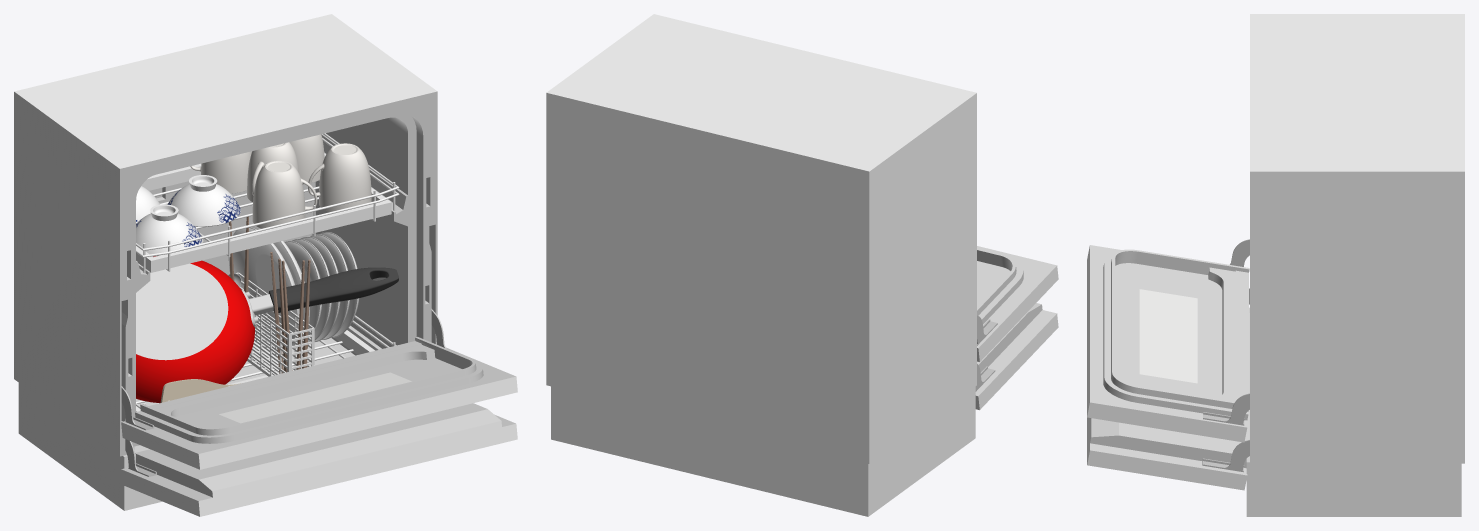
File: 857_dishwasher_open_filled.glb
The picture shows the model from 3 angles, left to right: view 1: azimuth 30°, elevation 25°; view 2: azimuth 150°, elevation 25°; view 3: azimuth 270°, elevation 25°; orthographic projection.
Visible parts, largest first — view 1: Body, door_up, door_bottom, Body.010, tray_up, tray_bottom, Body1.013, Body1.012, Body1.010, Body1.006, Body1.009, Body1 (+9 smaller); view 2: Body, door_up, door_bottom; view 3: Body, door_up, door_bottom.
Part boxes in pixels (bbox=[...]): Body: bbox=[14, 14, 437, 510]; door_up: bbox=[121, 309, 517, 469]; door_bottom: bbox=[121, 403, 517, 516]; Body.010: bbox=[136, 256, 398, 403]; tray_up: bbox=[136, 133, 399, 273]; tray_bottom: bbox=[136, 272, 396, 411]; Body1.013: bbox=[308, 143, 371, 211]; Body1.012: bbox=[252, 160, 317, 228]; Body1.010: bbox=[167, 175, 240, 226]; Body1.006: bbox=[228, 227, 299, 348]; Body1.009: bbox=[136, 204, 201, 255]; Body1: bbox=[190, 151, 251, 193]; Body: bbox=[546, 14, 976, 516]; door_up: bbox=[977, 246, 1058, 361]; door_bottom: bbox=[975, 303, 1058, 410]; Body: bbox=[1246, 14, 1464, 516]; door_up: bbox=[1087, 239, 1249, 442]; door_bottom: bbox=[1087, 288, 1249, 490].
Bounding box in the file's own units: 0.555 × 0.57 × 0.5628.
Materials: 18 (1 with a texture image).
